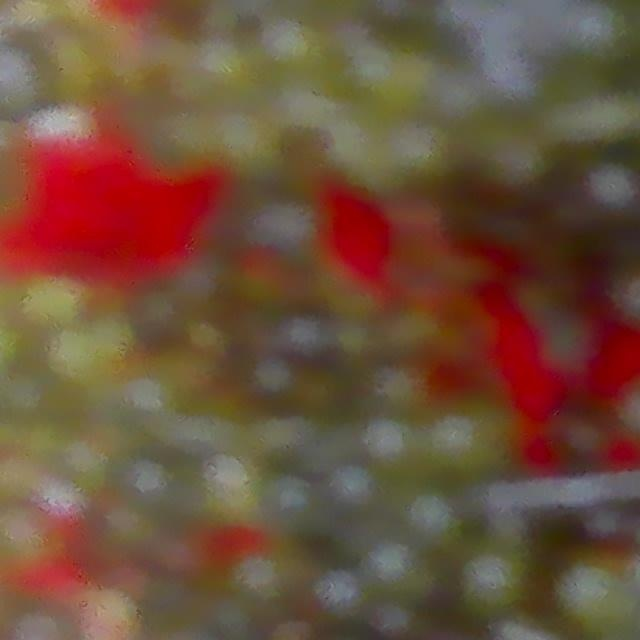SeaGrape: (556, 556, 633, 633), (457, 547, 530, 618), (538, 313, 602, 376), (509, 272, 569, 331), (579, 165, 640, 222)
